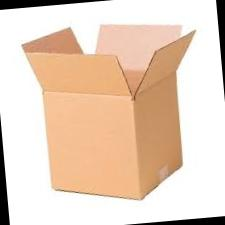cardboard: (12, 3, 215, 220)
